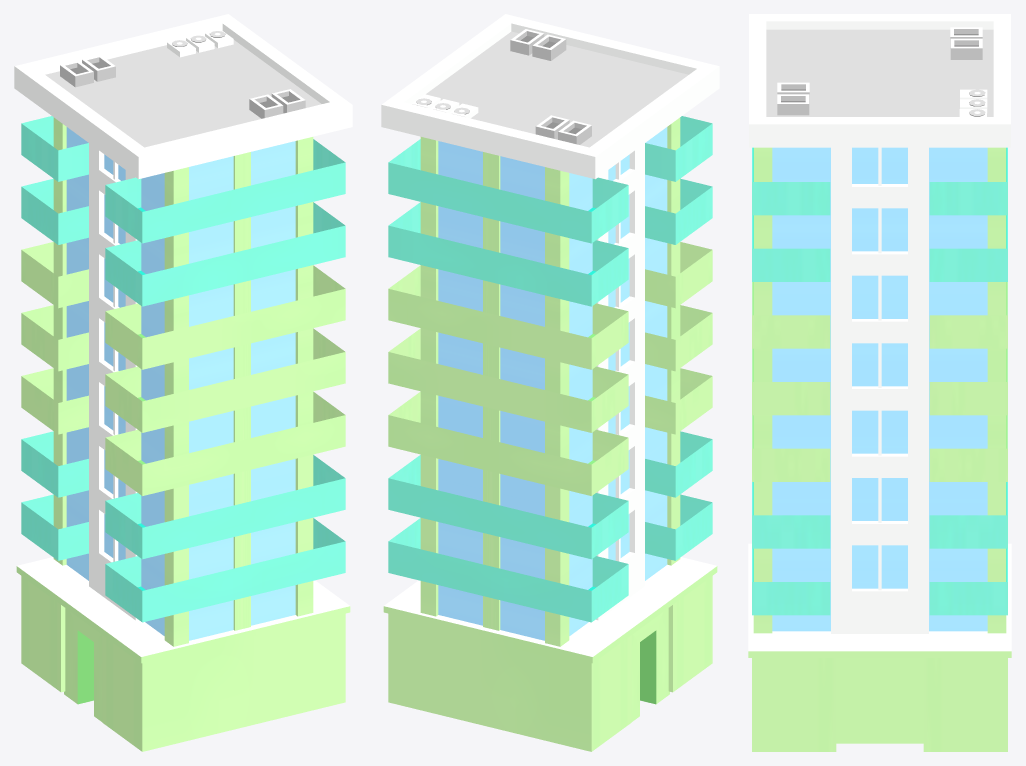
The model's file is tile_for_home_1x1.006 (7).glb.
3 renders of one model, left to right at view 1: azimuth 30°, elevation 25°; view 2: azimuth 150°, elevation 25°; view 3: azimuth 270°, elevation 25°, orthographic. The views are drawn at different scales.
Visible parts, largest first — view 1: apartment.007; view 2: apartment.007; view 3: apartment.007.
Boxes of the visible parts, x1,y1,x2,y2 form: apartment.007: (14,14,352,751); apartment.007: (381,14,719,751); apartment.007: (748,14,1011,751).
Bounding box in the file's own units: 5.95 × 16.05 × 6.
1 material, 1 textured.
